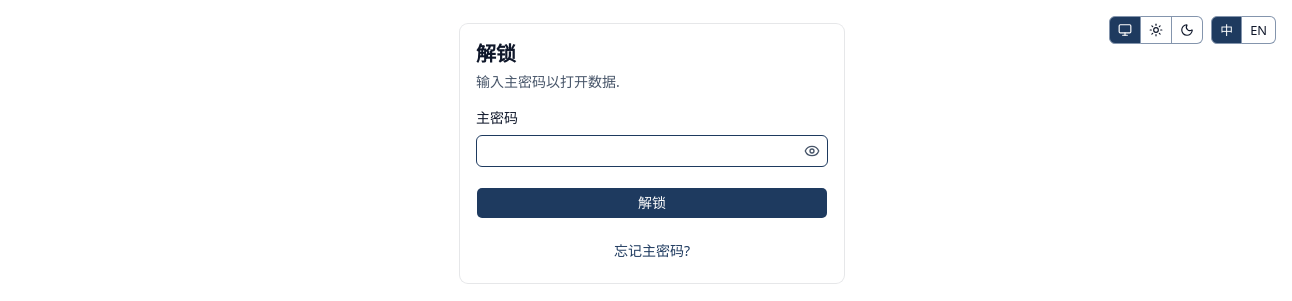
Test case: VaultGate 整屏页面与切换 › 解锁成功后切换到三栏主界面
The width and height of the screenshot is (1292, 301).
In the password field labelled "主密码": (638, 151) [477, 135, 800, 167], type "correct password"
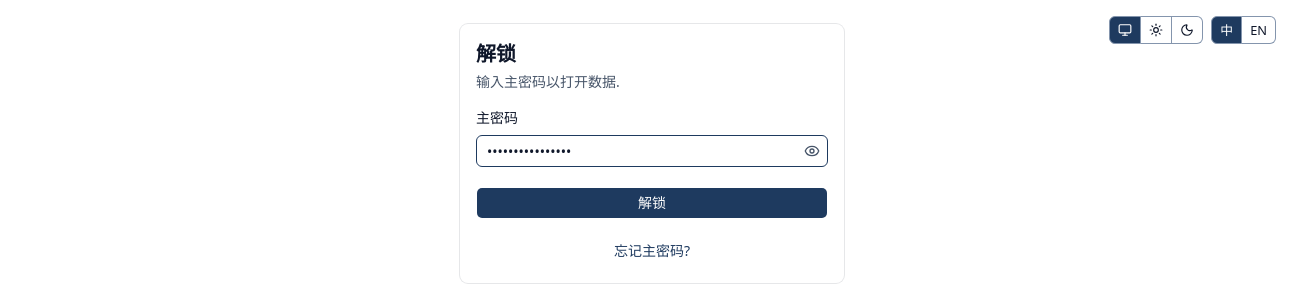
Click the button "解锁": (652, 203) [476, 187, 828, 219]
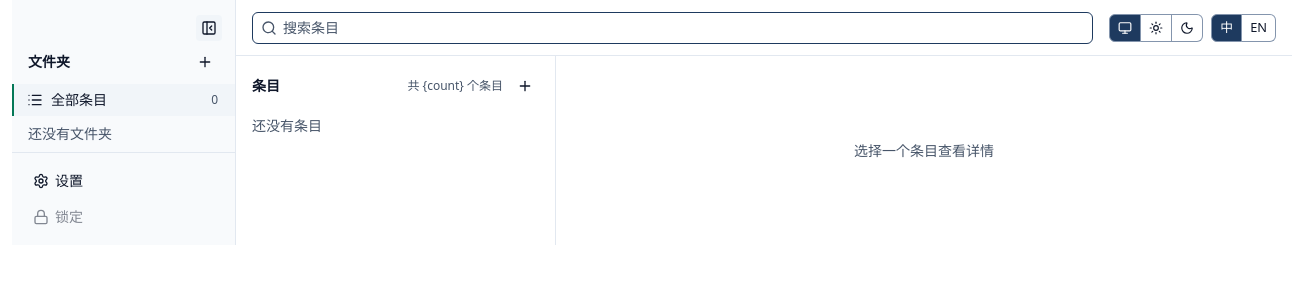
Expected: the search field labelled "搜索" is shown, [277, 12, 1092, 44]
Expected: the heading "解锁" is gone
